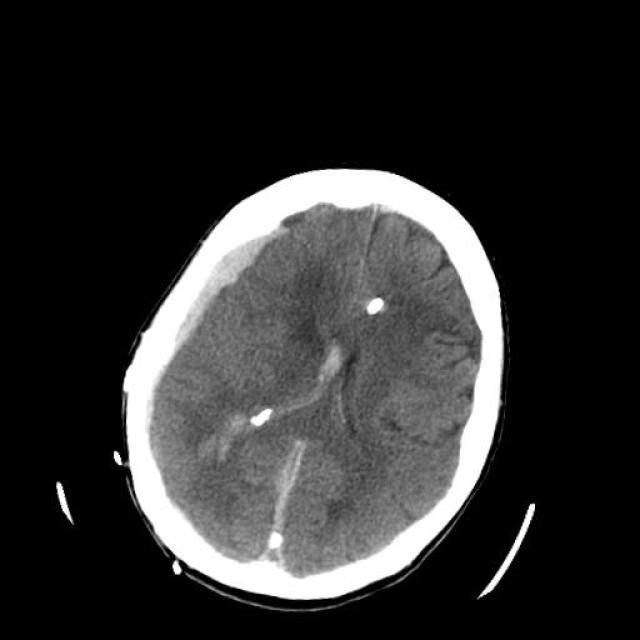Intraventricular: (209, 322, 352, 452)
Subdural: (85, 210, 289, 450)
